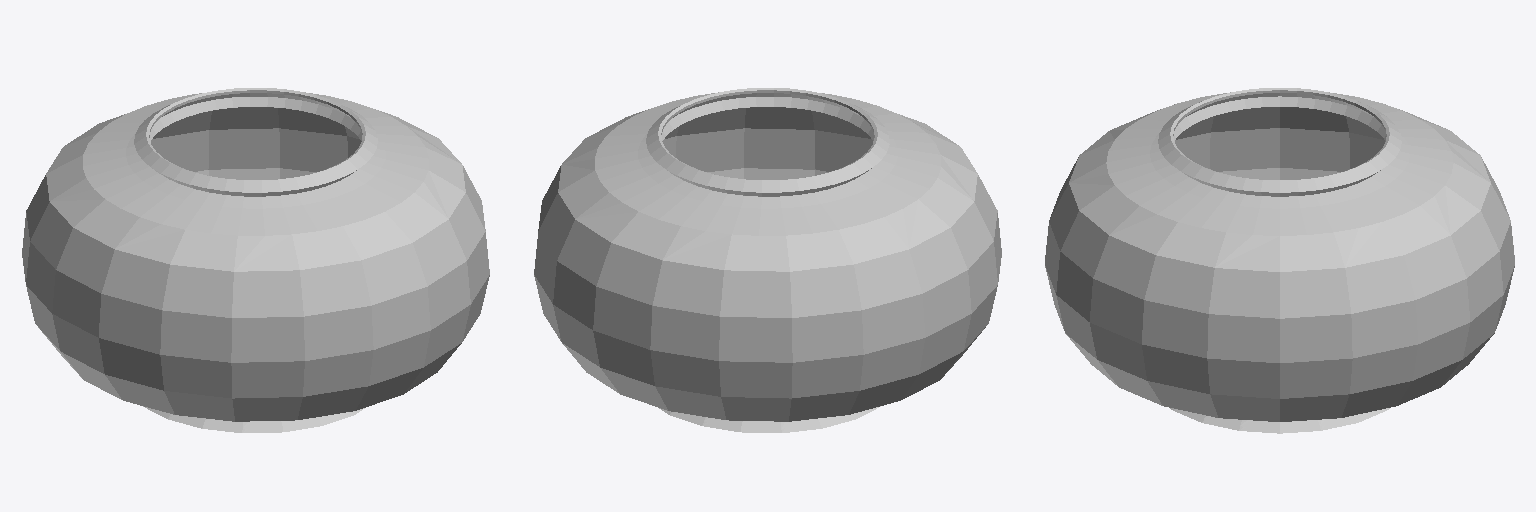
File: FishAndBowl.obj
3 views of the same model, side by side, from view 1: azimuth 30°, elevation 25°; view 2: azimuth 150°, elevation 25°; view 3: azimuth 270°, elevation 25° (orthographic).
Visible parts, largest first — view 1: revolvedSurface1; view 2: revolvedSurface1; view 3: revolvedSurface1.
Boxes of the visible parts, box(x1,y1,x2,y2) form: revolvedSurface1: box(22, 88, 489, 432); revolvedSurface1: box(534, 88, 1001, 432); revolvedSurface1: box(1045, 88, 1514, 433).
Bounding box in the file's own units: 15.95 × 9.12 × 15.95.